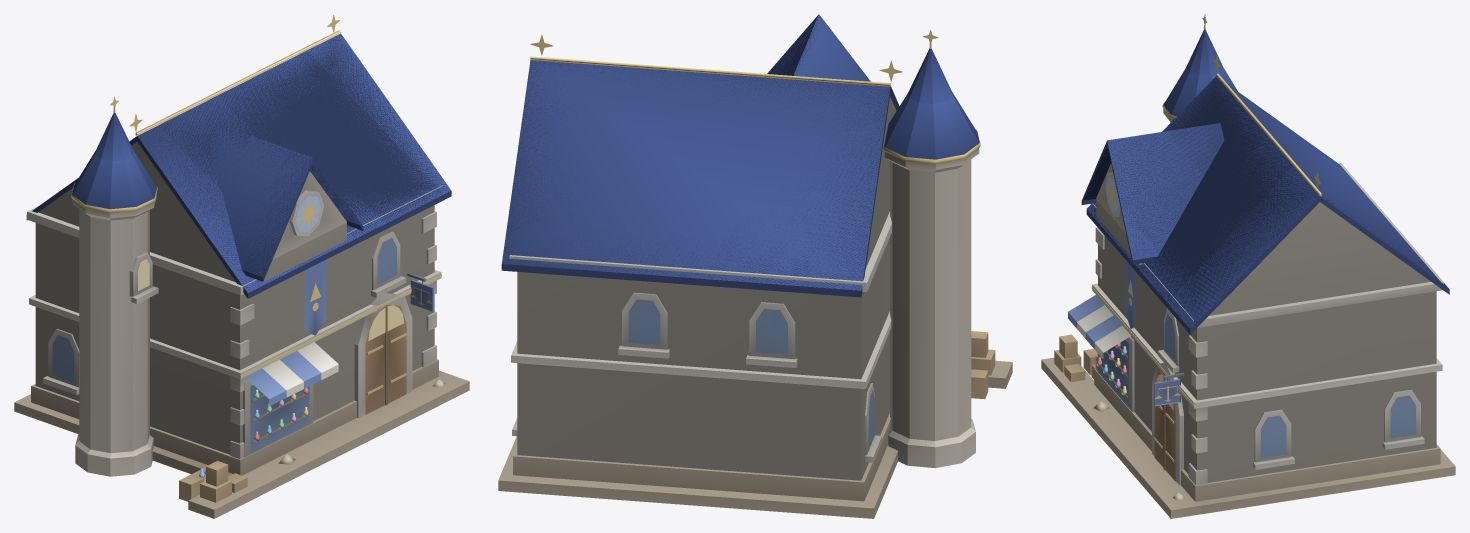
The model's file is guild_lite.glb.
3 renders of one model, left to right at view 1: azimuth 30°, elevation 25°; view 2: azimuth 150°, elevation 25°; view 3: azimuth 270°, elevation 25°, orthographic. The views are drawn at different scales.
Parts seen in each view (by area): view 1: Guild_stone, Guild_roof, Guild_props, Guild_glow; view 2: Guild_stone, Guild_roof, Guild_props; view 3: Guild_stone, Guild_roof, Guild_props, Guild_glow.
Boxes of the visible parts, <box> form: Guild_stone: <box>14,142,469,518</box>; Guild_roof: <box>26,33,451,298</box>; Guild_props: <box>52,15,445,502</box>; Guild_glow: <box>138,196,404,477</box>; Guild_stone: <box>498,97,1012,518</box>; Guild_roof: <box>501,14,979,297</box>; Guild_props: <box>530,30,995,447</box>; Guild_stone: <box>1041,108,1455,518</box>; Guild_roof: <box>1081,29,1449,334</box>; Guild_props: <box>1054,14,1415,500</box>; Guild_glow: <box>1096,177,1173,410</box>.
Bounding box in the file's own units: 10.77 × 10 × 10.81.
